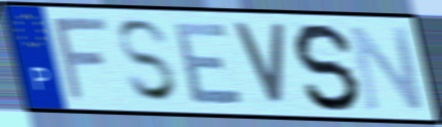E: (171, 20, 248, 106)
F: (50, 15, 112, 104)
N: (346, 24, 428, 113)
S: (291, 20, 365, 114), (114, 17, 182, 106)
V: (228, 19, 288, 110)
